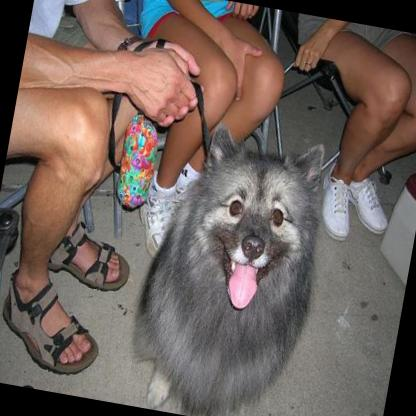keeshond: (117, 112, 337, 416)
